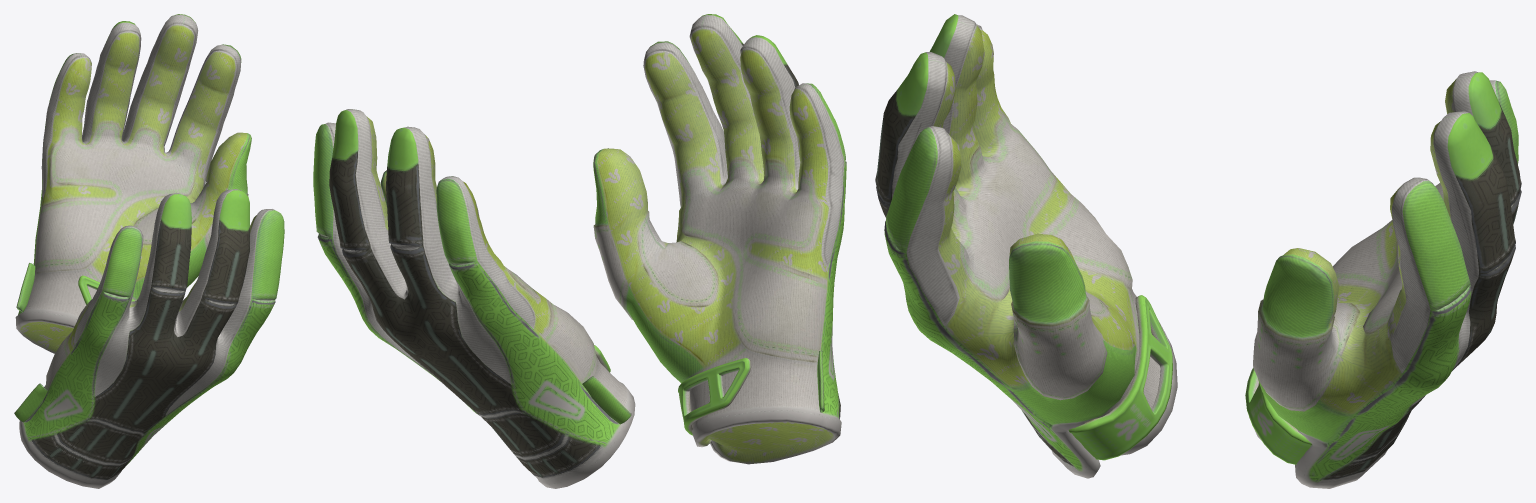
3 renders of one model, left to right at view 1: azimuth 30°, elevation 25°; view 2: azimuth 150°, elevation 25°; view 3: azimuth 270°, elevation 25°, orthographic. The views are drawn at different scales.
Parts seen in each view (by area): view 1: glove_left, glove_right; view 2: glove_left, glove_right; view 3: glove_left, glove_right.
Part boxes in pixels (x1,y1,x2,y2): glove_left: (14,189,284,488); glove_right: (15,14,251,353); glove_left: (593,14,846,464); glove_right: (313,109,635,488); glove_left: (875,14,1177,478); glove_right: (1245,71,1521,488).
Size of the model in its own units: 0.2508 by 0.2495 by 0.2865.
Materials: 2 (2 with a texture image).
